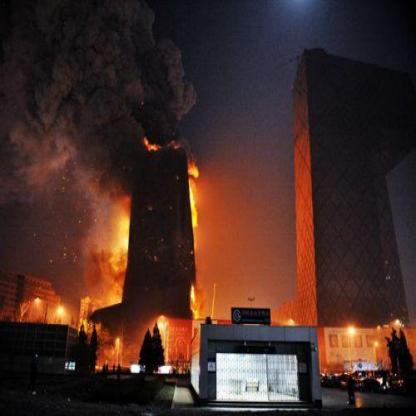fire: (182, 160, 204, 312), (109, 191, 130, 300), (139, 127, 185, 155)
other: (327, 312, 406, 372), (29, 292, 68, 323), (153, 312, 174, 354), (107, 332, 129, 358)
